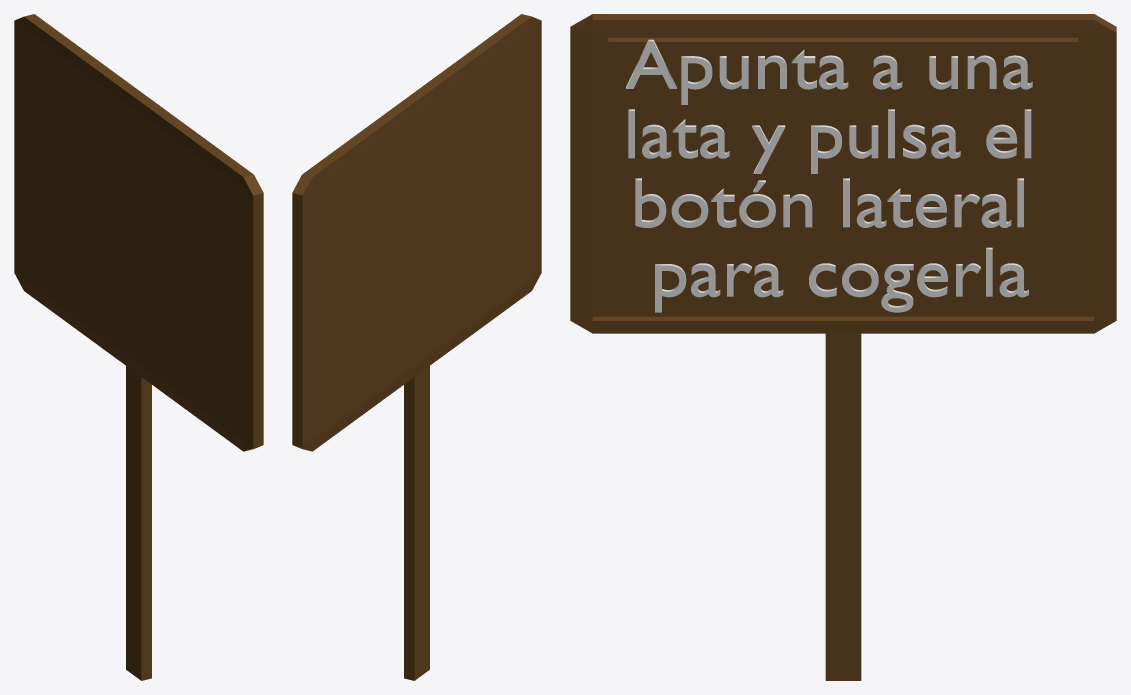
Rendered from Info3.fbx.
3 views of the same model, side by side, from view 1: azimuth 30°, elevation 25°; view 2: azimuth 150°, elevation 25°; view 3: azimuth 270°, elevation 25° (orthographic). The views are drawn at different scales.
Visible parts, largest first — view 1: Cube.000; view 2: Cube.000; view 3: Cube.000.
Part boxes in pixels (left/top/right/bottom): Cube.000: left=14, top=14, right=263, bottom=680; Cube.000: left=292, top=14, right=541, bottom=680; Cube.000: left=570, top=14, right=1116, bottom=680.
Bounding box in the file's own units: 3.02 × 112 × 84.21.
